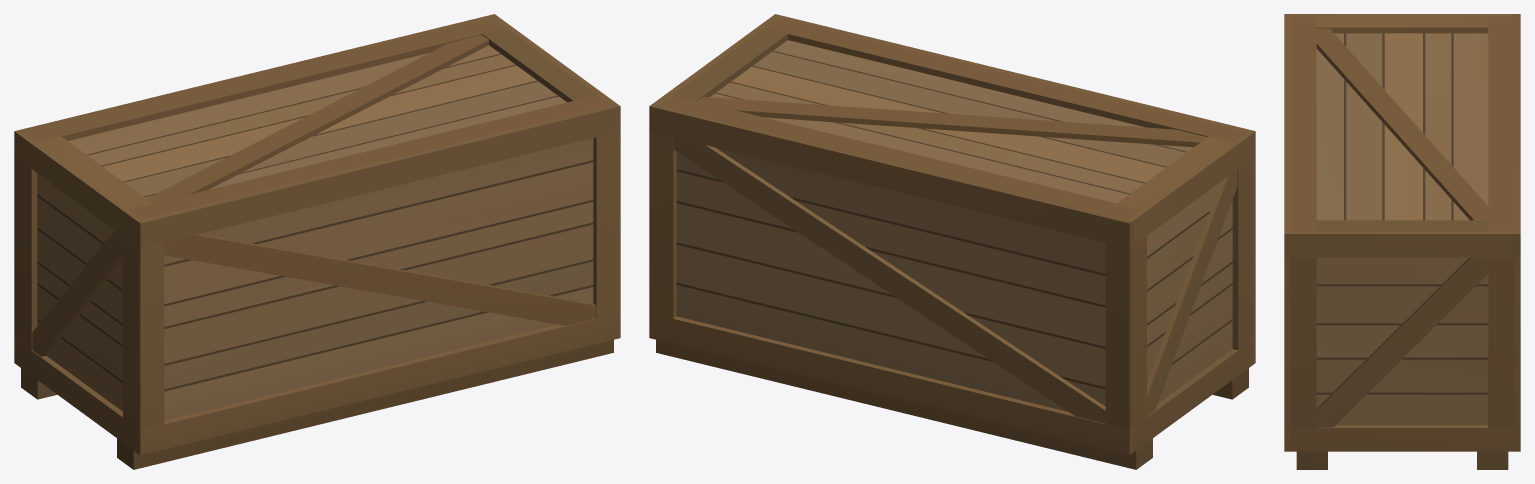
The model's file is crate.factory_long.braced.glb.
The picture shows the model from 3 angles, left to right: view 1: azimuth 30°, elevation 25°; view 2: azimuth 150°, elevation 25°; view 3: azimuth 270°, elevation 25°; orthographic projection. The views are drawn at different scales.
Visible parts, largest first — view 1: crate_factory_long_braced; view 2: crate_factory_long_braced; view 3: crate_factory_long_braced.
Part boxes in pixels (box(x1,y1,x2,y2)): crate_factory_long_braced: box(14, 14, 620, 469); crate_factory_long_braced: box(649, 14, 1255, 469); crate_factory_long_braced: box(1284, 14, 1520, 469).
Size of what is drawn, in the model's own units: 1.8 by 0.9 by 0.818.
